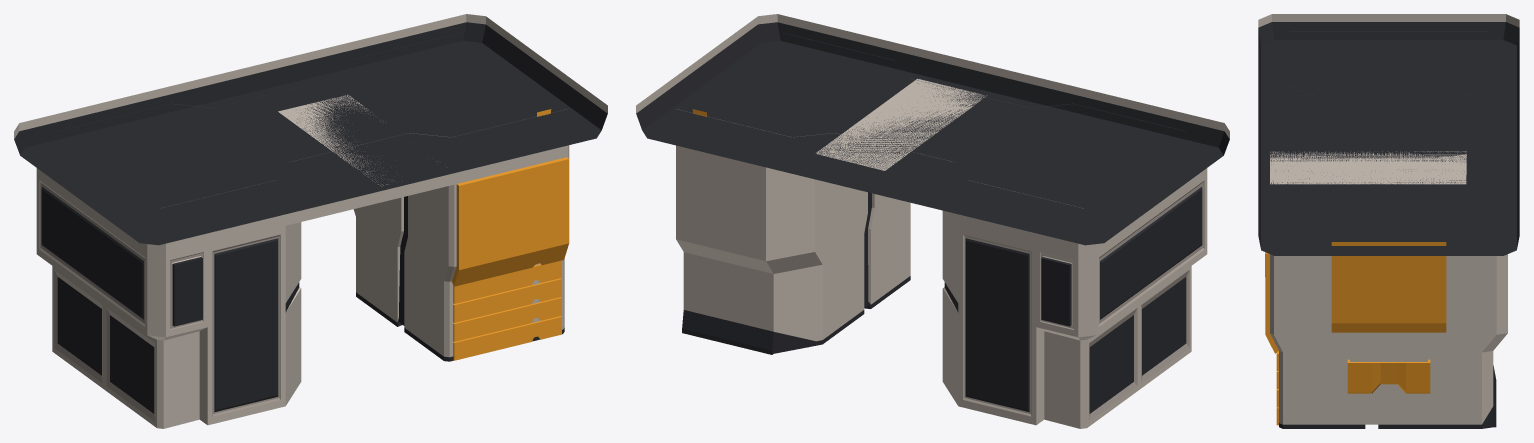
The model's file is SM_Desktop_01.glb.
3 views of the same model, side by side, from view 1: azimuth 30°, elevation 25°; view 2: azimuth 150°, elevation 25°; view 3: azimuth 270°, elevation 25° (orthographic). The views are drawn at different scales.
Parts seen in each view (by area): view 1: SM_Desktop_01; view 2: SM_Desktop_01; view 3: SM_Desktop_01.
Part boxes in pixels (x1,y1,x2,y2): SM_Desktop_01: (14,14,607,428); SM_Desktop_01: (636,14,1229,428); SM_Desktop_01: (1258,14,1519,428).
Bounding box in the file's own units: 2 × 0.8959 × 1.
2 materials, 1 textured.
